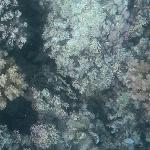dead: (1, 7, 148, 145)
